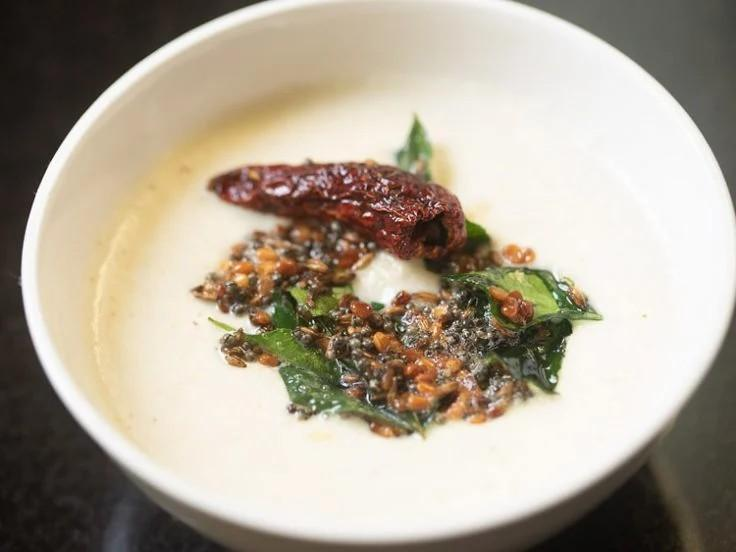CoconutChutney: (96, 78, 665, 514)
